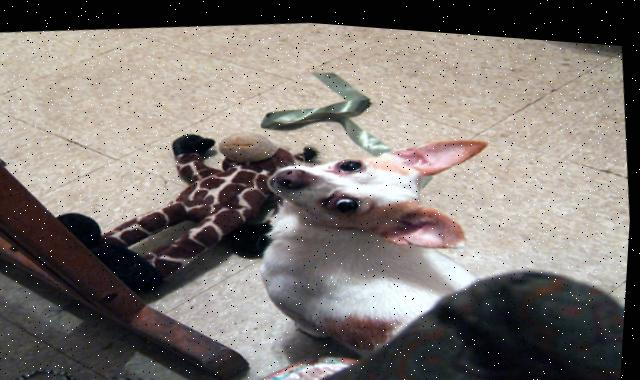dog: (228, 113, 531, 379)
